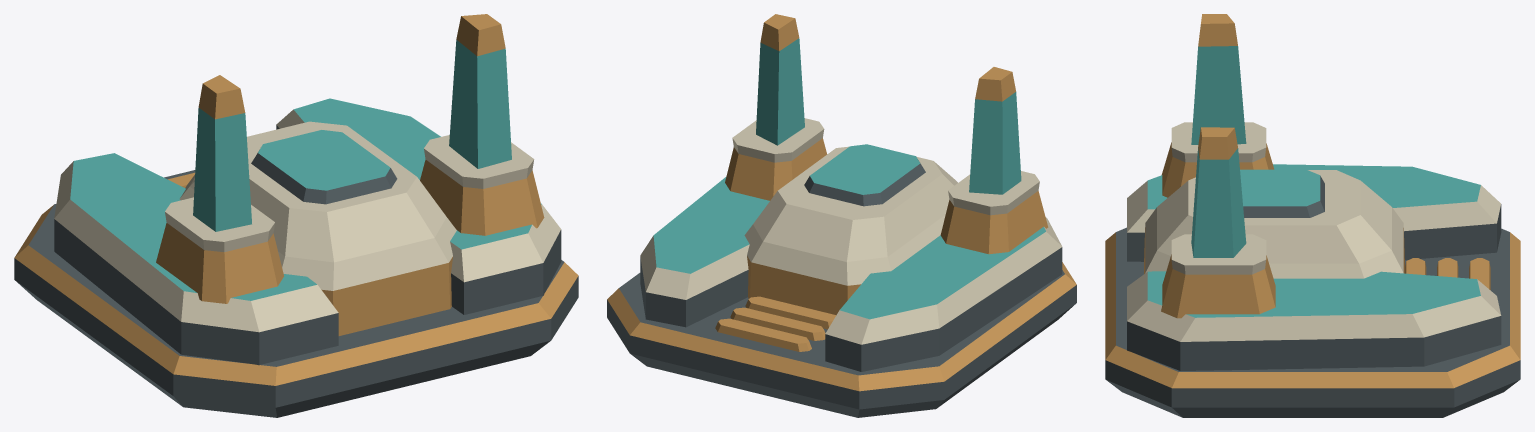
Rendered from command_anchor.glb.
3 renders of one model, left to right at view 1: azimuth 30°, elevation 25°; view 2: azimuth 150°, elevation 25°; view 3: azimuth 270°, elevation 25°, orthographic. The views are drawn at different scales.
Visible parts, largest first — view 1: Anchor with loading apron and signal vanes; view 2: Anchor with loading apron and signal vanes; view 3: Anchor with loading apron and signal vanes.
Part boxes in pixels (x1=…): Anchor with loading apron and signal vanes: x1=14, y1=14, x2=578, y2=417; Anchor with loading apron and signal vanes: x1=607, y1=14, x2=1076, y2=417; Anchor with loading apron and signal vanes: x1=1105, y1=14, x2=1520, y2=417.
Bounding box in the file's own units: 1.94 × 1.35 × 1.94.
